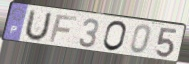0: (128, 24, 153, 56)
3: (78, 17, 100, 48)
5: (153, 26, 180, 59)
F: (47, 14, 79, 44)
O: (101, 20, 128, 53)
U: (22, 9, 54, 43)
